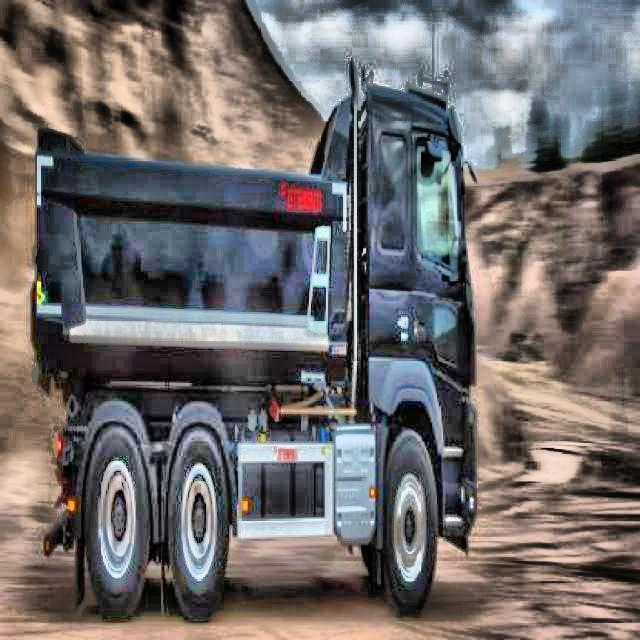dump_truck: (32, 60, 481, 620)
